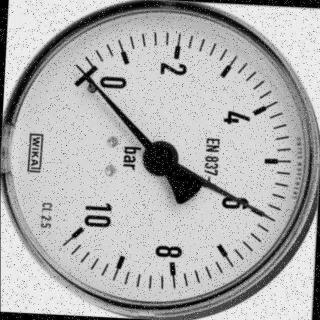gauge: (0, 0, 320, 320), (142, 140, 179, 176), (66, 62, 102, 90), (61, 217, 97, 244), (70, 60, 88, 79), (265, 213, 279, 225)
